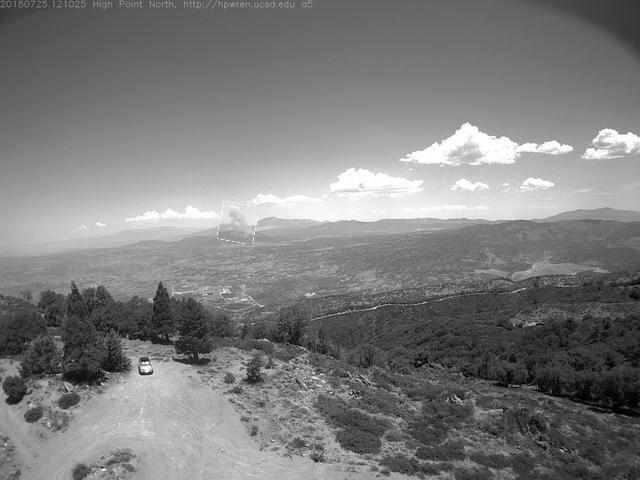smoke: (220, 204, 259, 245)
